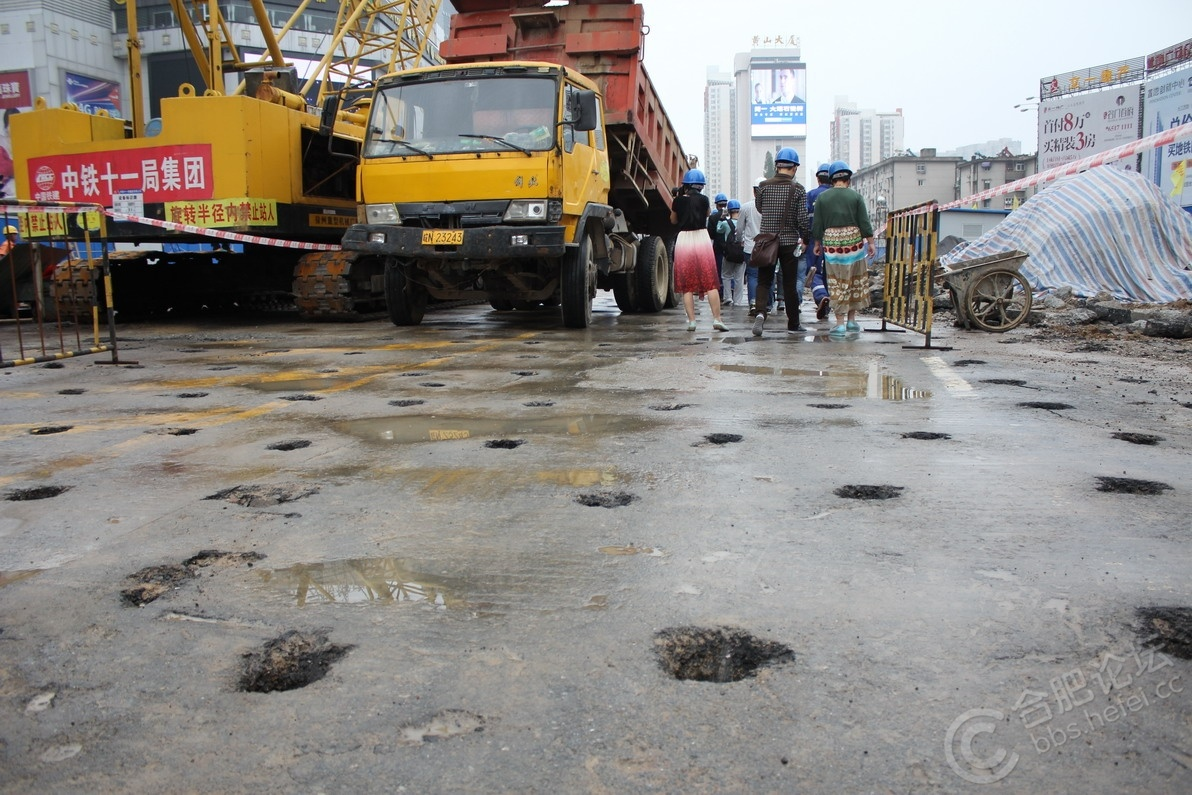blue: (774, 146, 800, 177), (827, 159, 853, 187), (682, 168, 705, 193), (815, 162, 832, 185), (725, 198, 741, 216), (714, 192, 728, 209)
white: (751, 175, 767, 196)
yellow: (2, 223, 18, 241)
